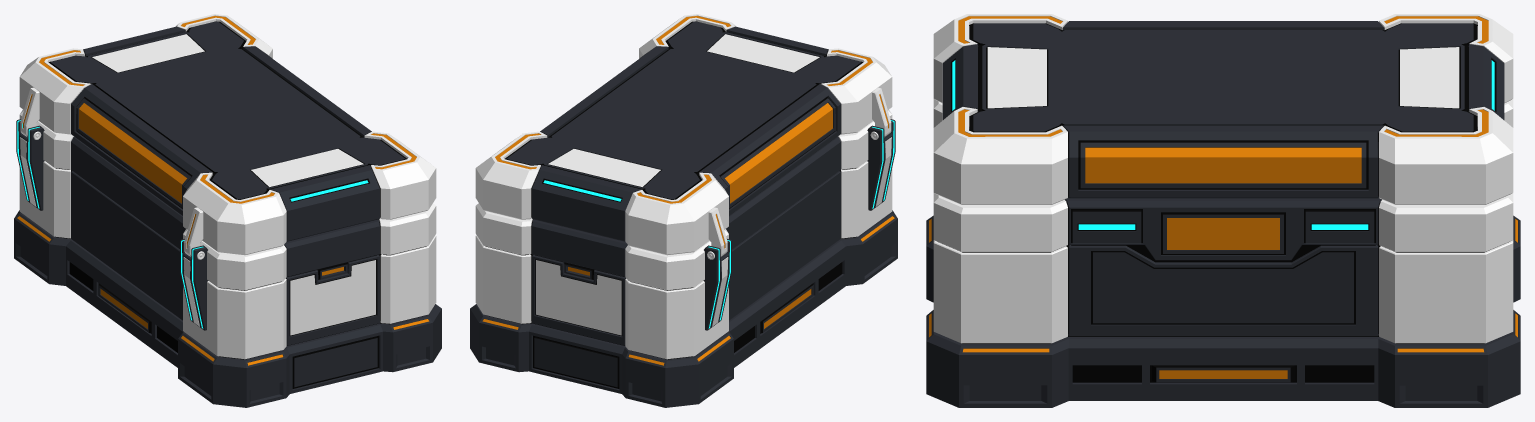
The model's file is SM_Defense_WeaponCrate.fbx.
3 views of the same model, side by side, from view 1: azimuth 30°, elevation 25°; view 2: azimuth 150°, elevation 25°; view 3: azimuth 270°, elevation 25° (orthographic). The views are drawn at different scales.
Parts seen in each view (by area): view 1: SM_Defense_WeaponCrate_Base, SM_Defense_WeaponCrate_Lid; view 2: SM_Defense_WeaponCrate_Base, SM_Defense_WeaponCrate_Lid; view 3: SM_Defense_WeaponCrate_Base, SM_Defense_WeaponCrate_Lid.
Part boxes in pixels (<box>): SM_Defense_WeaponCrate_Base: <box>14,109,441,407</box>; SM_Defense_WeaponCrate_Lid: <box>19,14,436,256</box>; SM_Defense_WeaponCrate_Base: <box>470,109,897,407</box>; SM_Defense_WeaponCrate_Lid: <box>475,14,892,256</box>; SM_Defense_WeaponCrate_Base: <box>926,99,1520,407</box>; SM_Defense_WeaponCrate_Lid: <box>933,14,1513,204</box>.
Bounding box in the file's own units: 78.74 × 61.45 × 128.
